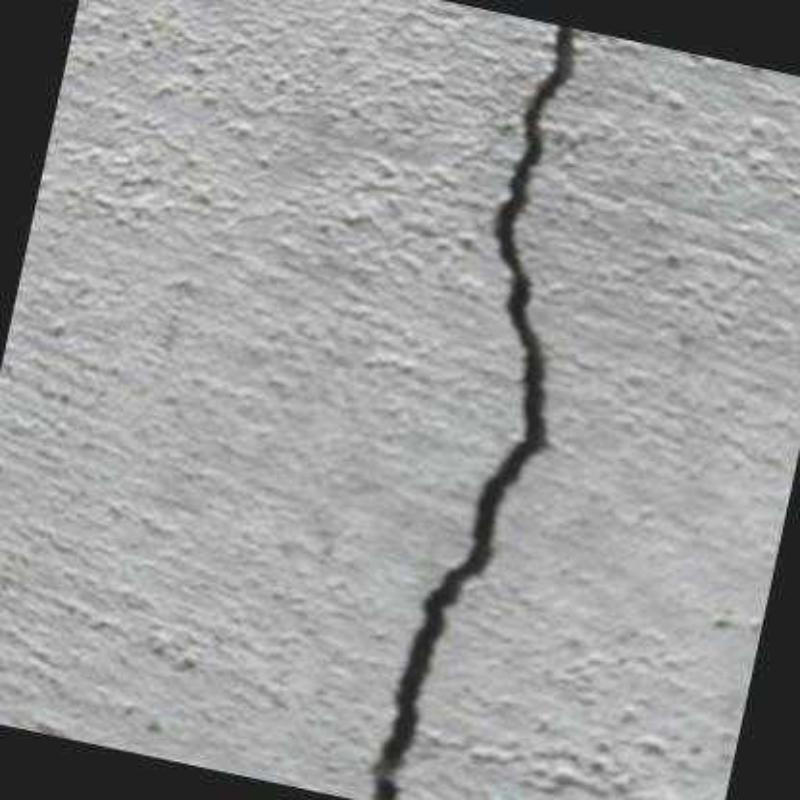crack: (371, 24, 574, 800)
